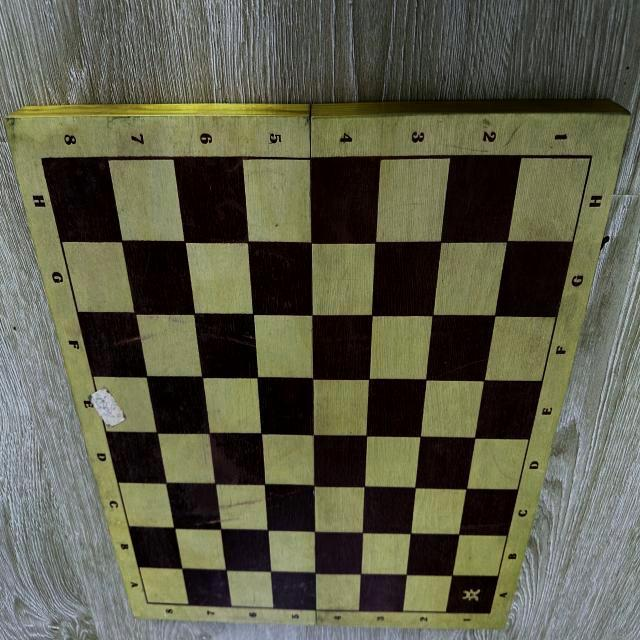chess-table-corners: (34, 146, 50, 170), (584, 148, 600, 167), (140, 594, 154, 610), (485, 608, 494, 618)
